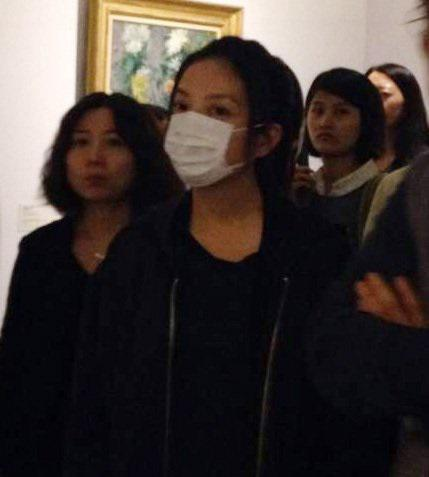NONE: (61, 125, 136, 200), (309, 101, 360, 153)
OK: (166, 80, 271, 185)
